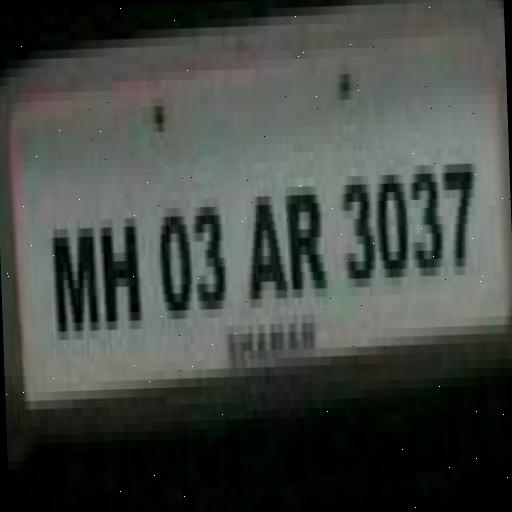number plate: (0, 6, 491, 484)
